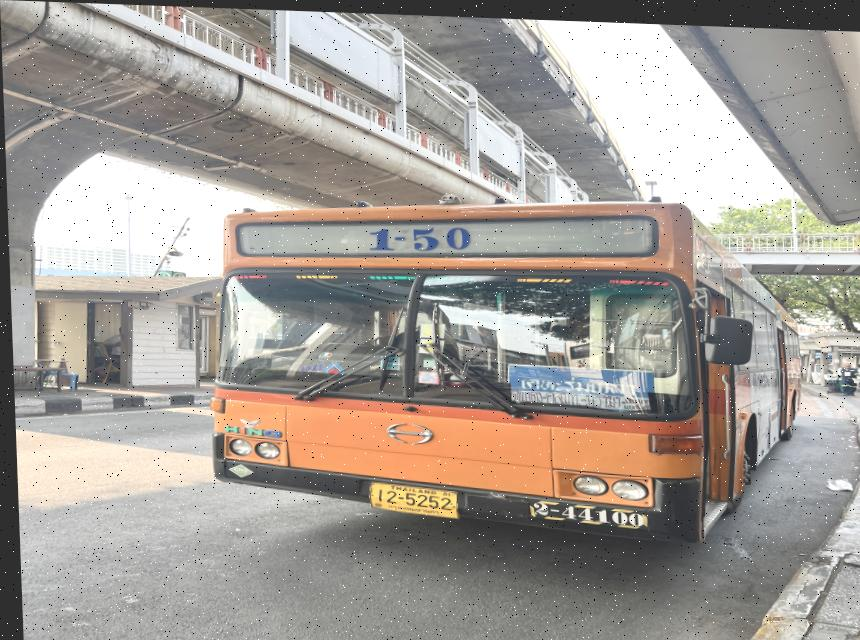BMTA-bus: (205, 198, 796, 539)
Bus Line Number: (354, 218, 481, 253)
Bus Side Number: (522, 498, 643, 525)
Destination Sign: (503, 359, 654, 409)
